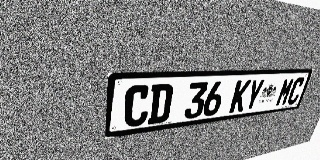3: (183, 82, 209, 120)
6: (202, 81, 226, 117)
C: (123, 84, 151, 128), (286, 77, 306, 105)
D: (147, 83, 174, 125)
K: (228, 80, 252, 113)
M: (275, 78, 295, 107)
Y: (243, 79, 265, 111)
